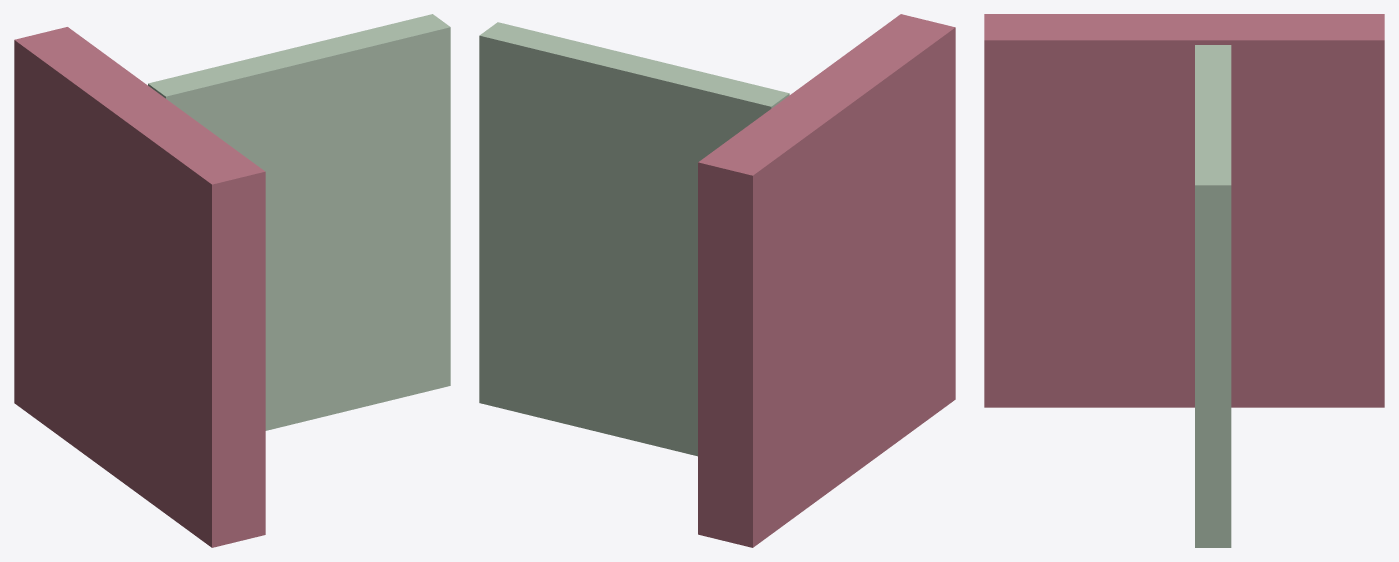
3 views of the same model, side by side, from view 1: azimuth 30°, elevation 25°; view 2: azimuth 150°, elevation 25°; view 3: azimuth 270°, elevation 25° (orthographic). The views are drawn at different scales.
Parts seen in each view (by area): view 1: world; view 2: world; view 3: world.
Part boxes in pixels (x1,y1,x2,y2): world: (14,14,450,547); world: (479,14,955,547); world: (984,14,1384,547).
Size of the model in its own units: 7.7 by 7.8 by 7.7.
